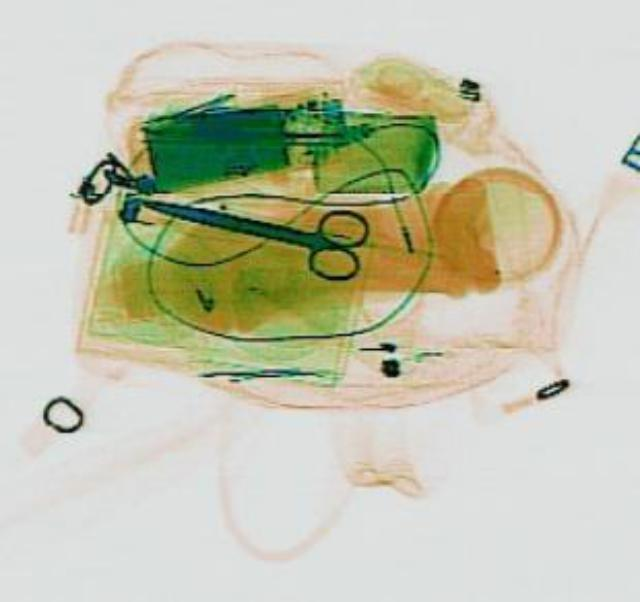Scissors: (128, 167, 370, 283)
